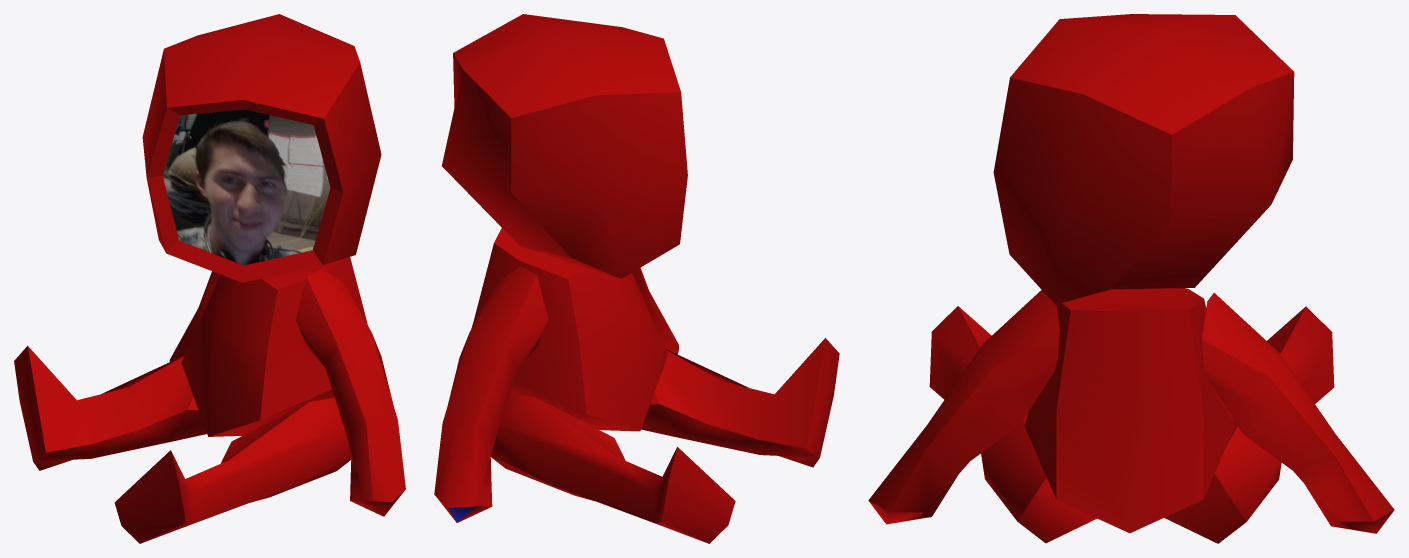
Rendered from Avatar.obj.
The picture shows the model from 3 angles, left to right: view 1: azimuth 30°, elevation 25°; view 2: azimuth 150°, elevation 25°; view 3: azimuth 270°, elevation 25°; orthographic projection. The views are drawn at different scales.
Parts seen in each view (by area): view 1: Box009; view 2: Box009; view 3: Box009.
Boxes of the visible parts, left/top/right/bottom form: Box009: left=14, top=14, right=405, bottom=543; Box009: left=434, top=14, right=839, bottom=543; Box009: left=868, top=14, right=1394, bottom=543.
Size of the model in its own units: 84.15 by 115 by 107.
Materials: 3 (1 with a texture image).
